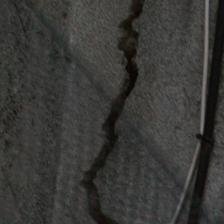Crack: (74, 6, 152, 223)
